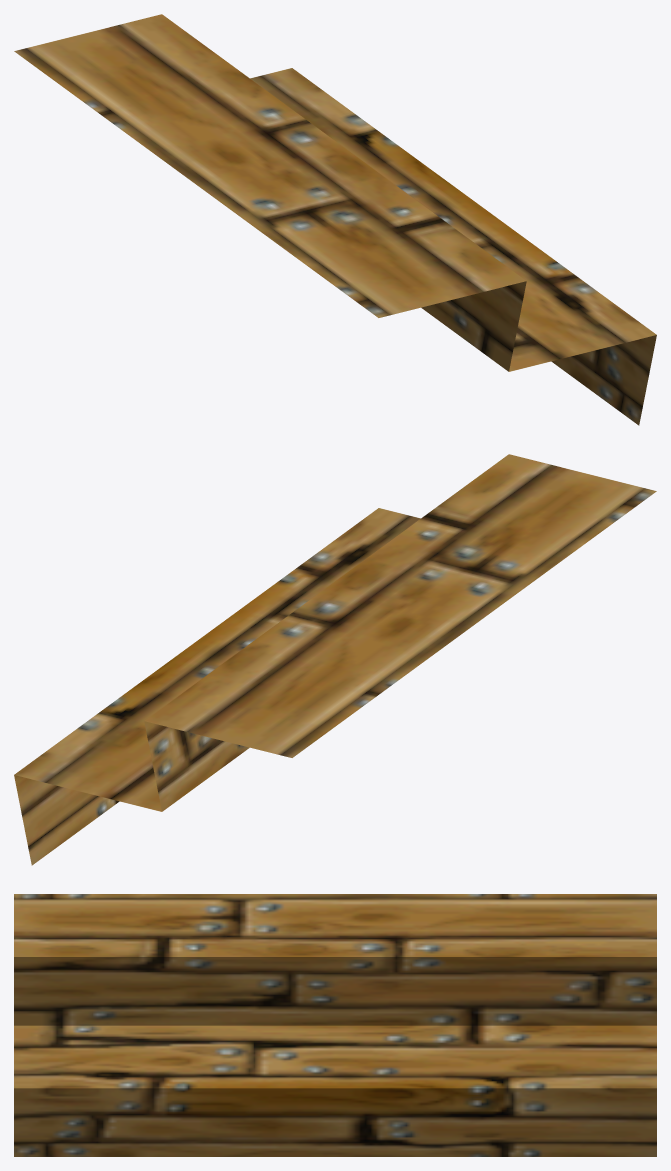
Rendered from Treppe_ZweiStufen_995.glb.
3 views of the same model, one above another, from view 1: azimuth 30°, elevation 25°; view 2: azimuth 150°, elevation 25°; view 3: azimuth 270°, elevation 25° (orthographic). The views are drawn at different scales.
Parts seen in each view (by area): view 1: pPlaneShape16; view 2: pPlaneShape16; view 3: pPlaneShape16.
Part boxes in pixels (x1,y1,x2,y2): pPlaneShape16: (14,14,656,425); pPlaneShape16: (14,454,656,865); pPlaneShape16: (14,894,656,1156).
Bounding box in the file's own units: 0.1101 × 0.0651 × 0.2501.
Materials: 1 (1 with a texture image).
